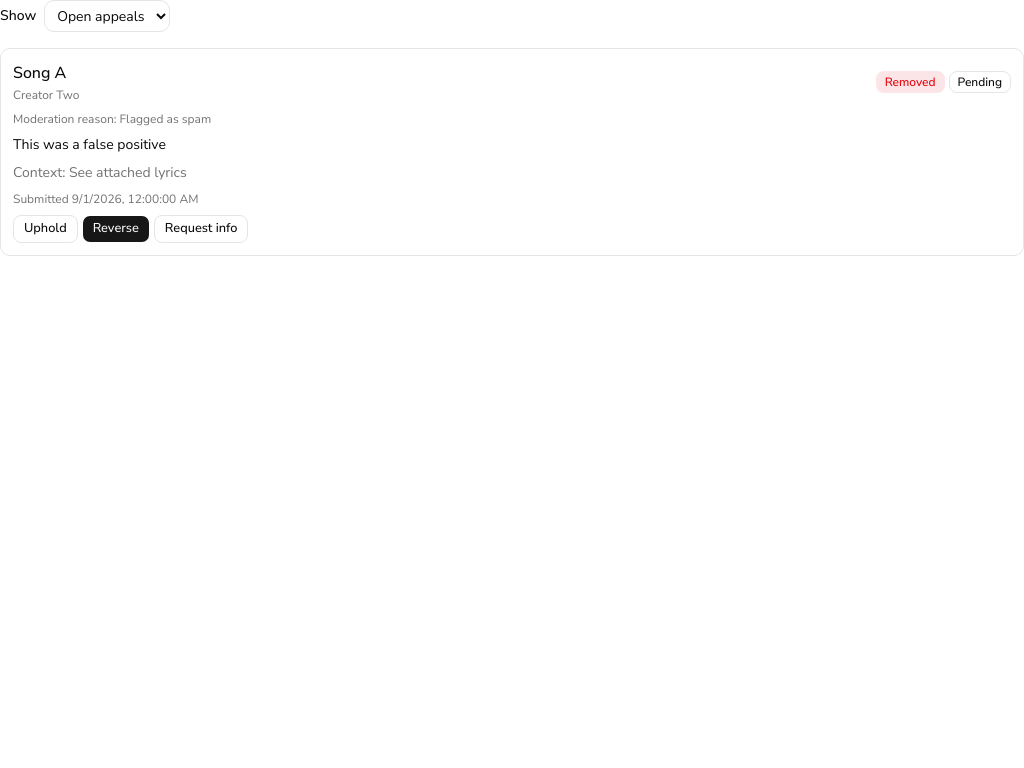
Test: AppealsPanel › uphold posts the decision, shows a notice, and refetches
Click the button "Uphold". click: (45, 229)
box: [13,215,78,243]
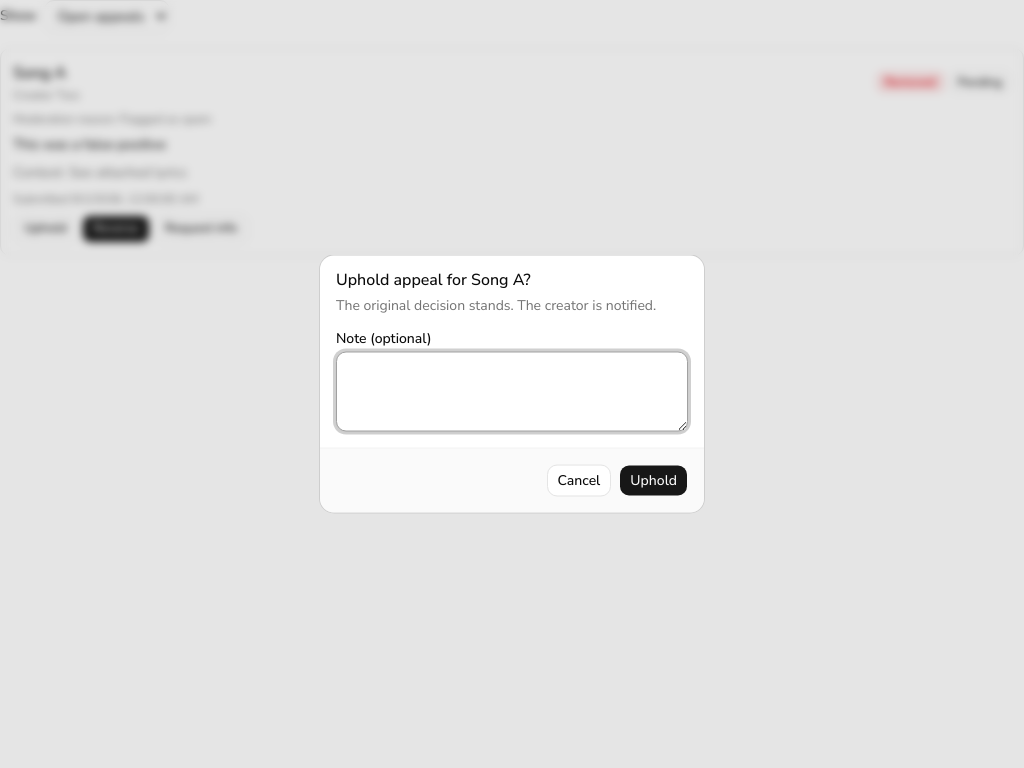
Expected: the dialog "Uphold appeal for Song A" is shown, [320,256,704,512]
Click the button "Uphold". click: (654, 480)
box: [619,464,688,496]
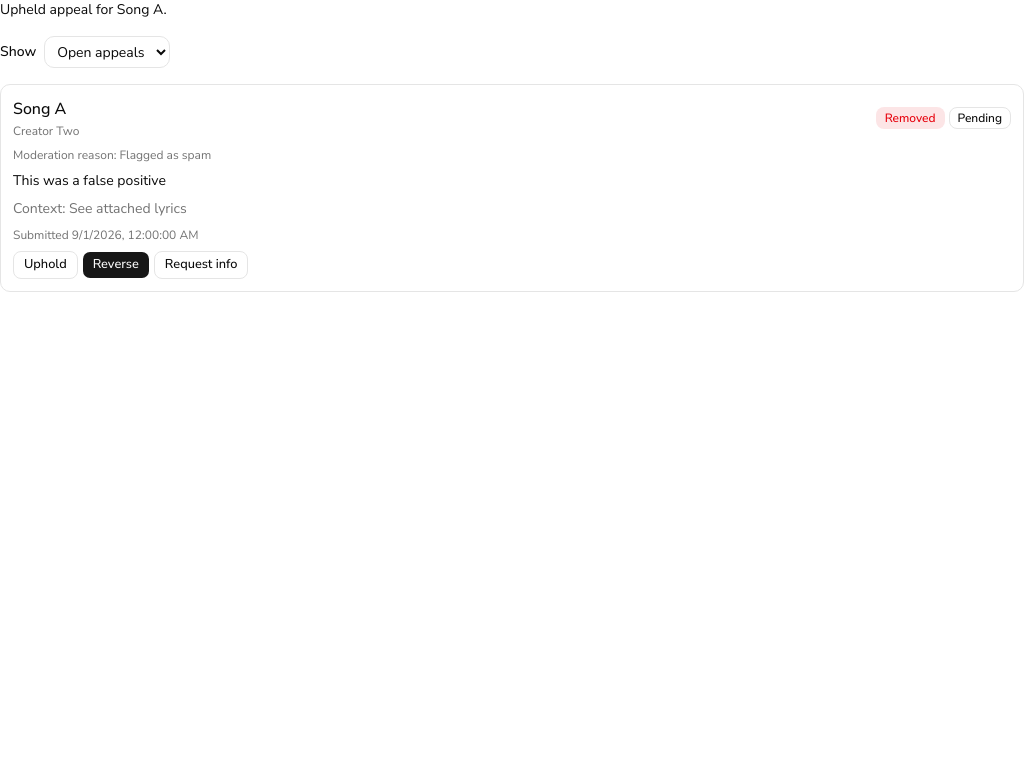
Expected: the message reads "Upheld appeal for Song A.", [0,0,167,19]
